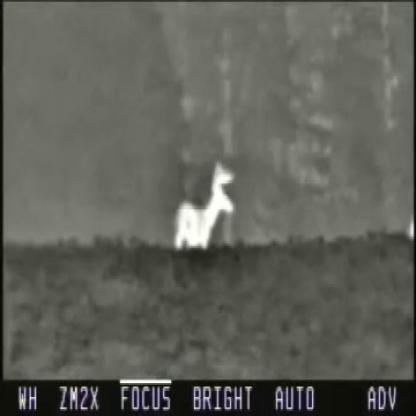rehkitze: (175, 162, 236, 250)
